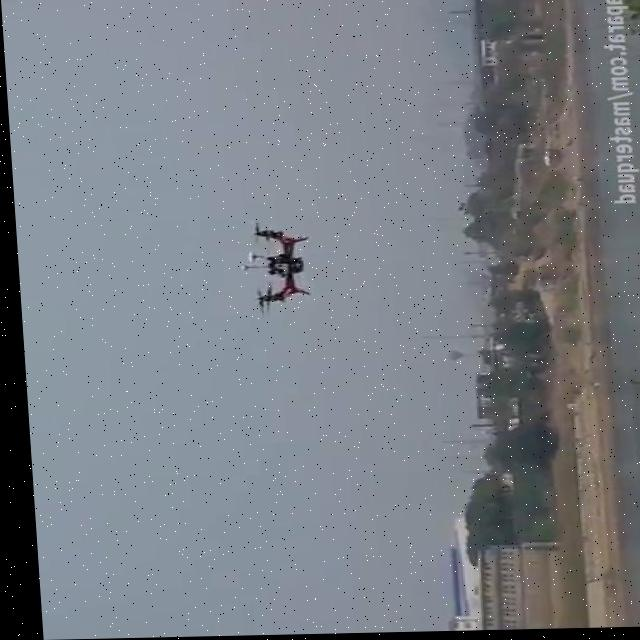drone: (227, 217, 314, 320)
